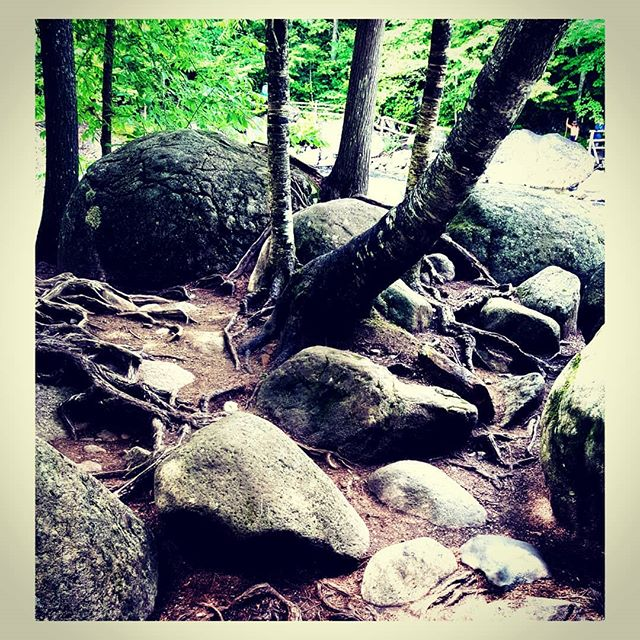rocks: (104, 176, 581, 619)
tree: (222, 1, 640, 361)
